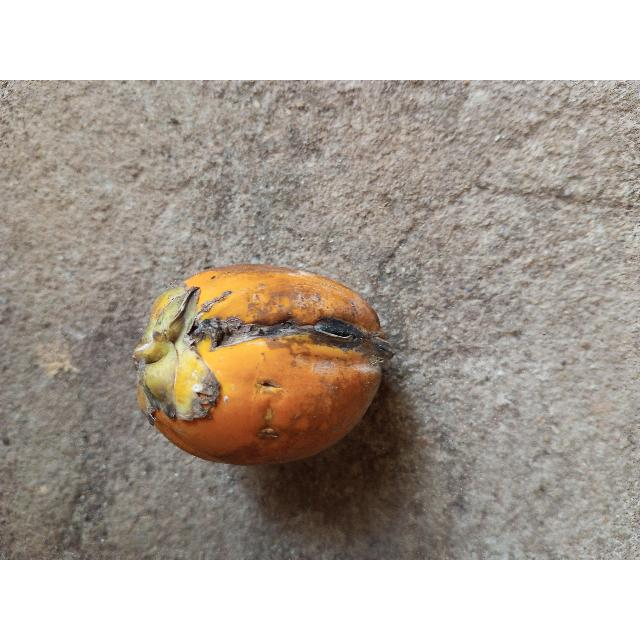damaged: (134, 265, 389, 468)
